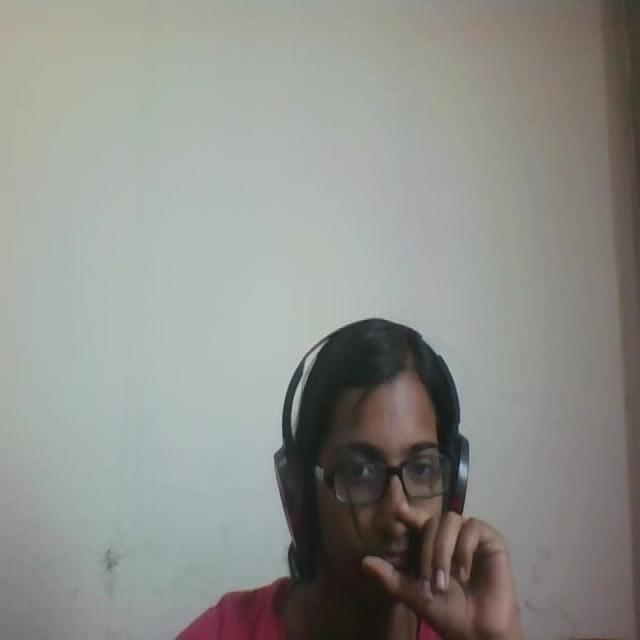Bored: (252, 296, 506, 622)
